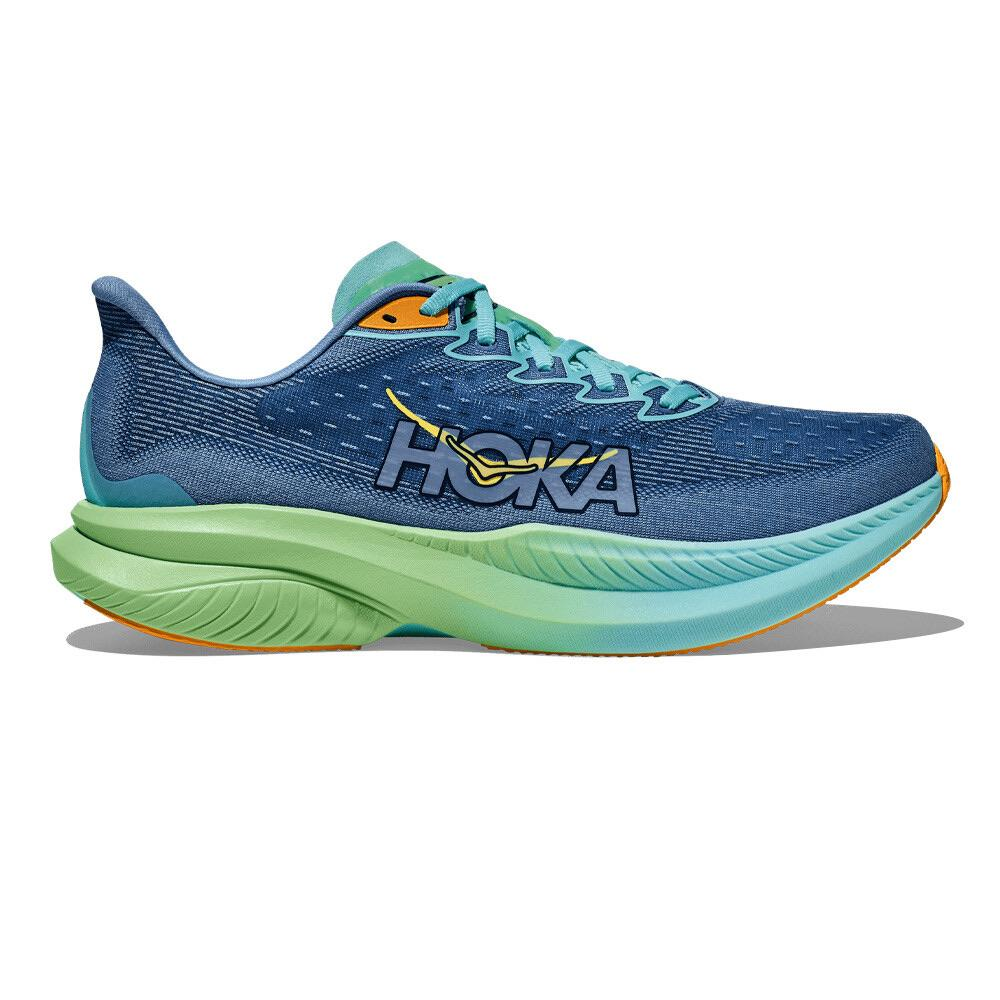hoka logo: (374, 386, 644, 516)
